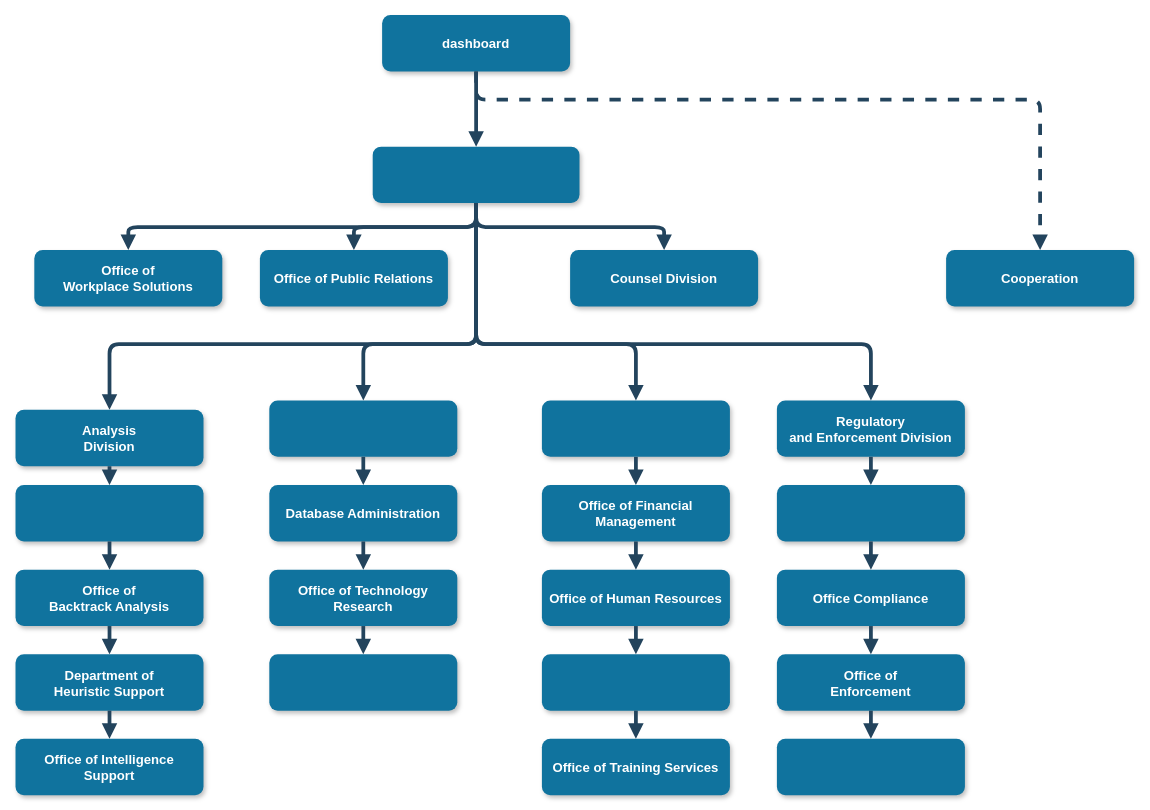
Image size: 1150x810. Some labels were removed from this diagram. Here are the shapes that lost their labels. From the top down, the centre of each, then its label:
At pixel 476 175: "Deputy Director".
At pixel 363 429: "IT Division".
At pixel 636 429: "Management Programs Division".
At pixel 110 514: "Office of Global Support".
At pixel 871 514: "Office of Regulatory Policy".
At pixel 363 683: "Office of Data Services".
At pixel 636 683: "Office of Management".
At pixel 871 768: "Office of Regulatory Support".
